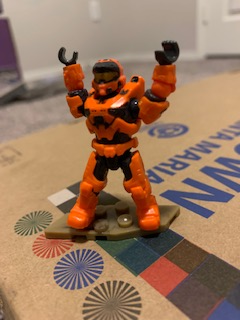spartan: (56, 39, 179, 234)
up: (55, 38, 182, 139)
